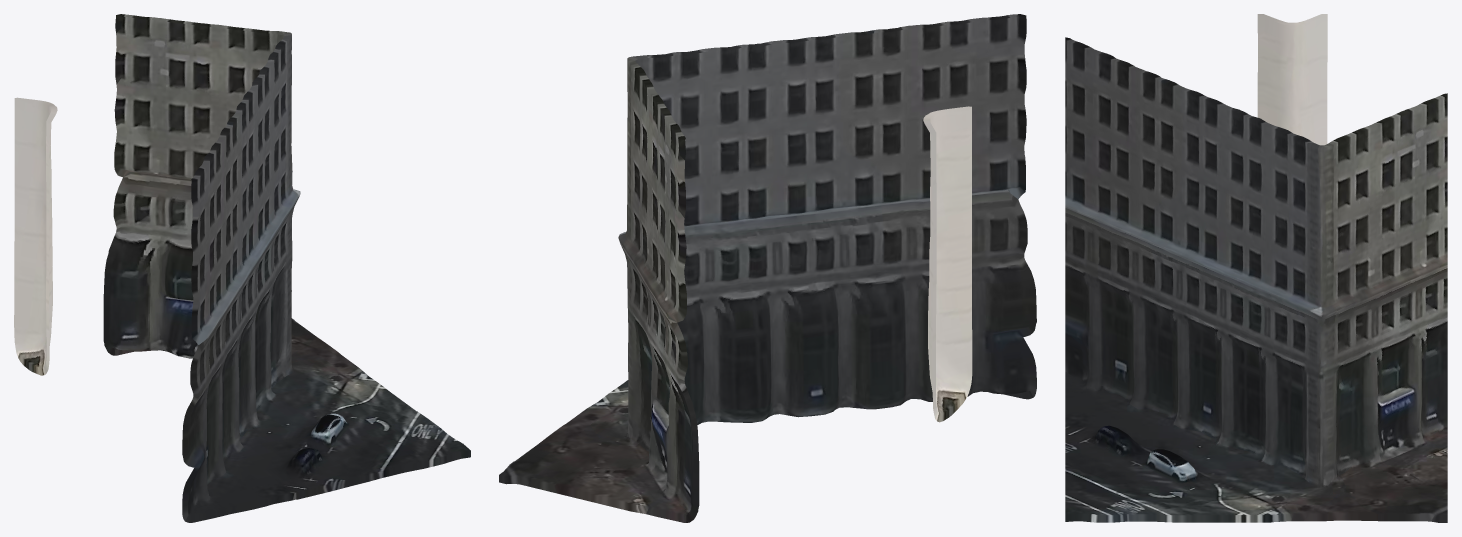
File: z20-167782-405230-h0-yup-uvflip-v3-world.glb
3 views of the same model, side by side, from view 1: azimuth 30°, elevation 25°; view 2: azimuth 150°, elevation 25°; view 3: azimuth 270°, elevation 25° (orthographic). The views are drawn at different scales.
Bounding box in the file's own units: 30.16 × 30.44 × 30.32.
Materials: 1 (1 with a texture image).
